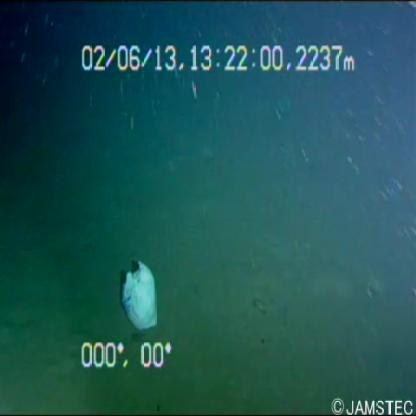Rác: (108, 244, 176, 338)
